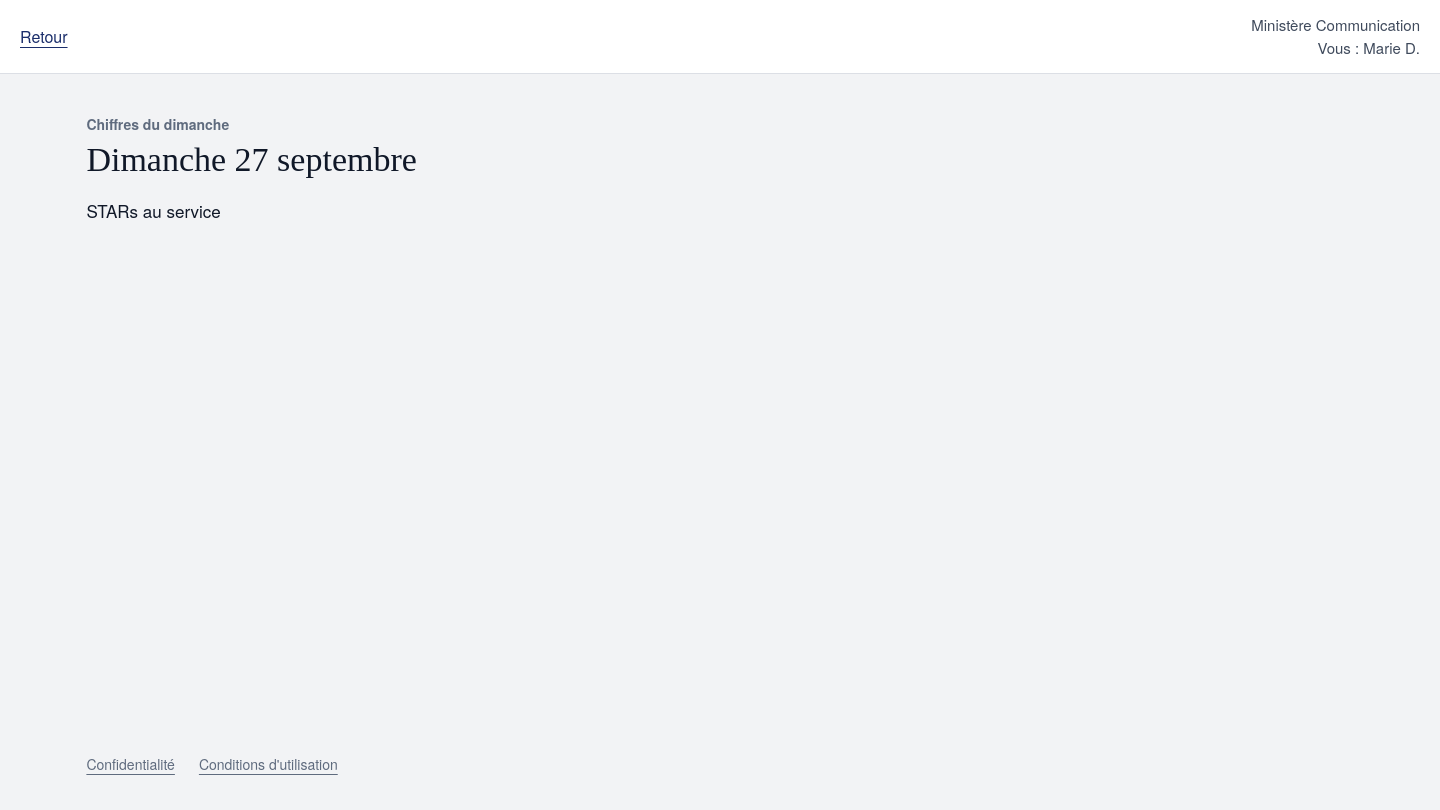
it: MiseEnPage : en-tête simplifié d’une saisie au téléphone (proposition 4, T69) › « Retour » ferme la saisie, puis l’en-tête complet revient
This screenshot has width=1440, height=810.
Click the button "Retour" at (44, 36), box top-left (20, 14), bottom-right (68, 58)
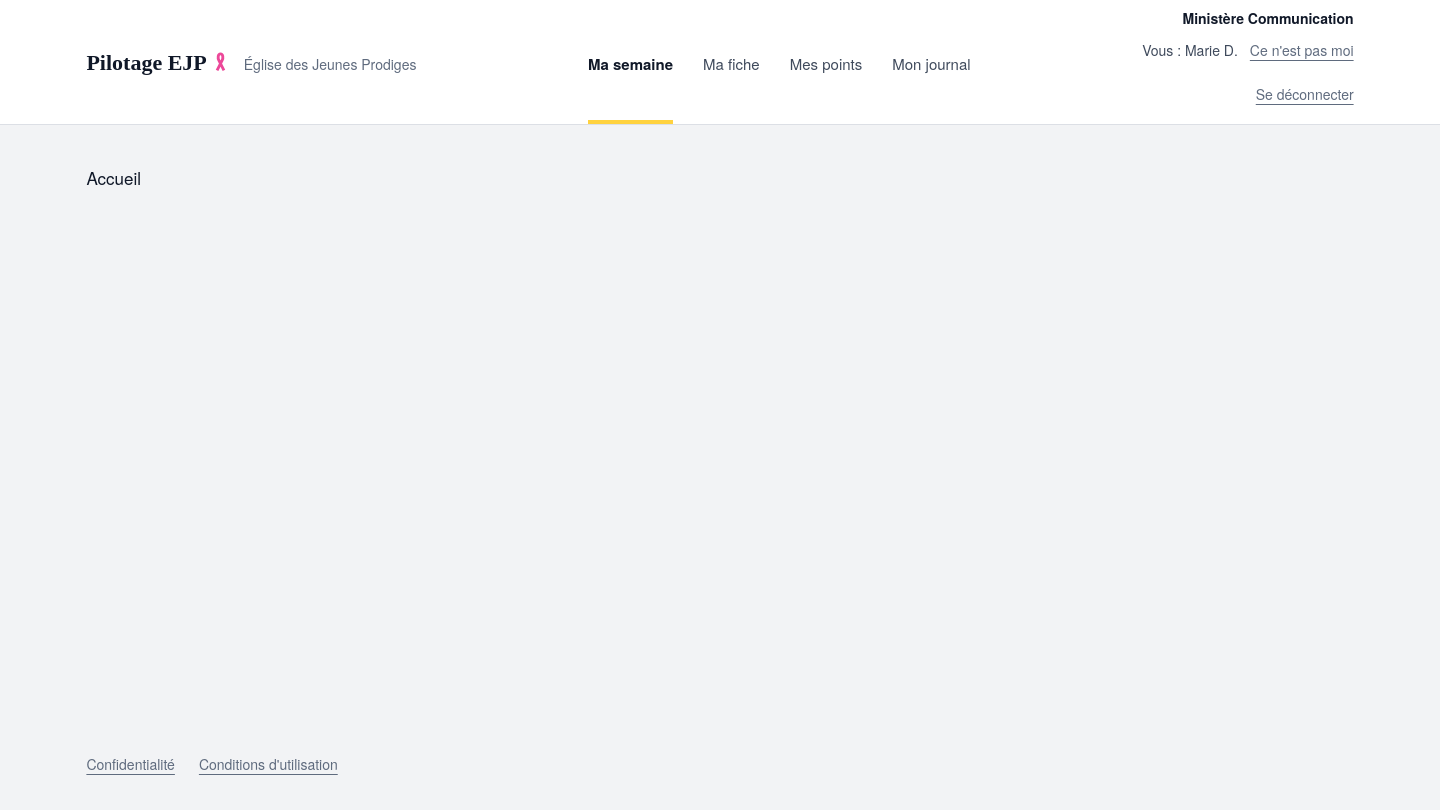
Now the text "Accueil" is shown, box top-left (86, 165), bottom-right (141, 190)
